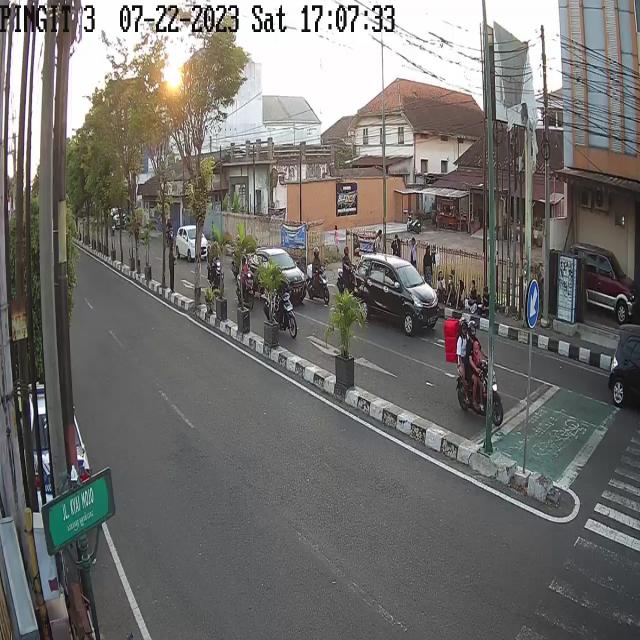car: (352, 252, 442, 336), (575, 244, 638, 328), (246, 248, 308, 301), (608, 325, 640, 409), (176, 222, 210, 260)
motorcycle: (454, 314, 506, 422), (266, 261, 296, 342), (306, 245, 330, 299), (206, 238, 227, 294), (335, 245, 356, 293), (237, 256, 255, 310), (232, 235, 244, 278), (165, 216, 174, 248)
